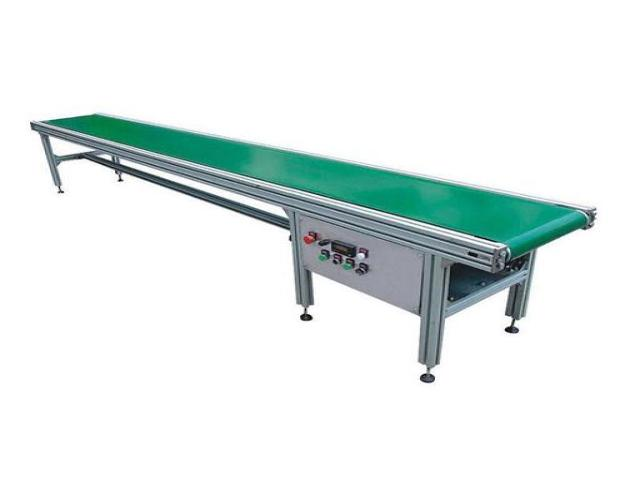conveyor: (26, 99, 598, 334)
